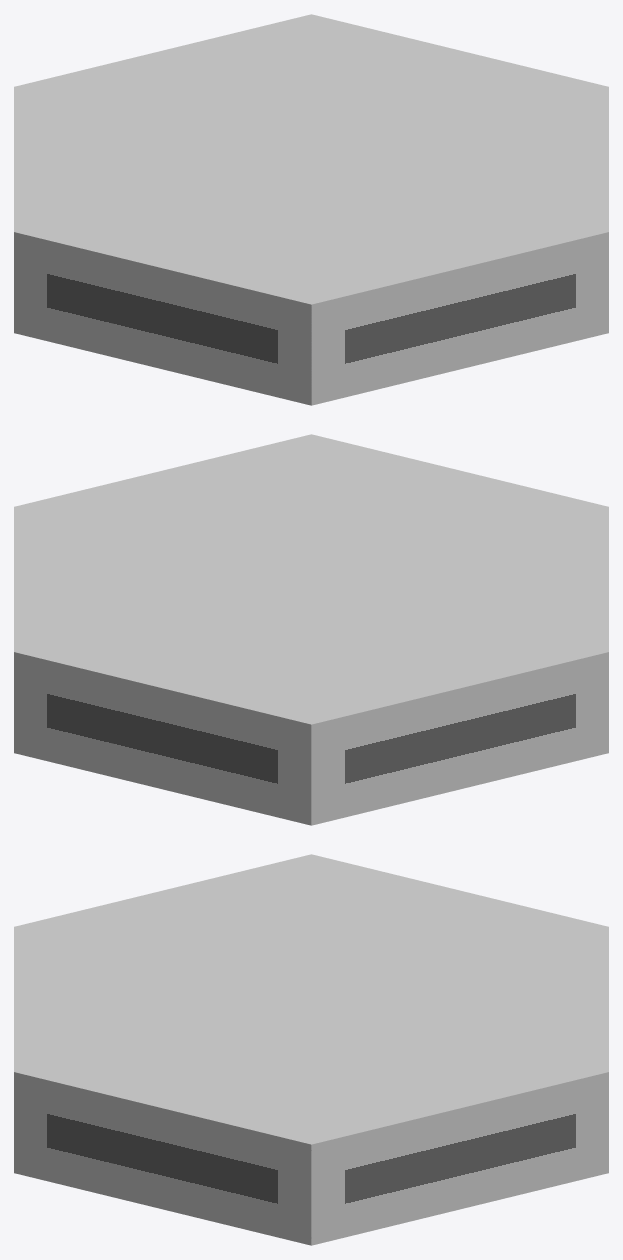
The model's file is white_unit2.glb.
3 views of the same model, one above another, from view 1: azimuth 30°, elevation 25°; view 2: azimuth 150°, elevation 25°; view 3: azimuth 270°, elevation 25° (orthographic).
Visible parts, largest first — view 1: cylinder; view 2: cylinder; view 3: cylinder.
Part boxes in pixels (box(x1,y1,x2,y2)): cylinder: box(14, 14, 608, 405); cylinder: box(14, 434, 608, 825); cylinder: box(14, 854, 608, 1245).
Size of the model in its own units: 1.15 by 0.1875 by 1.
1 material, 1 textured.
